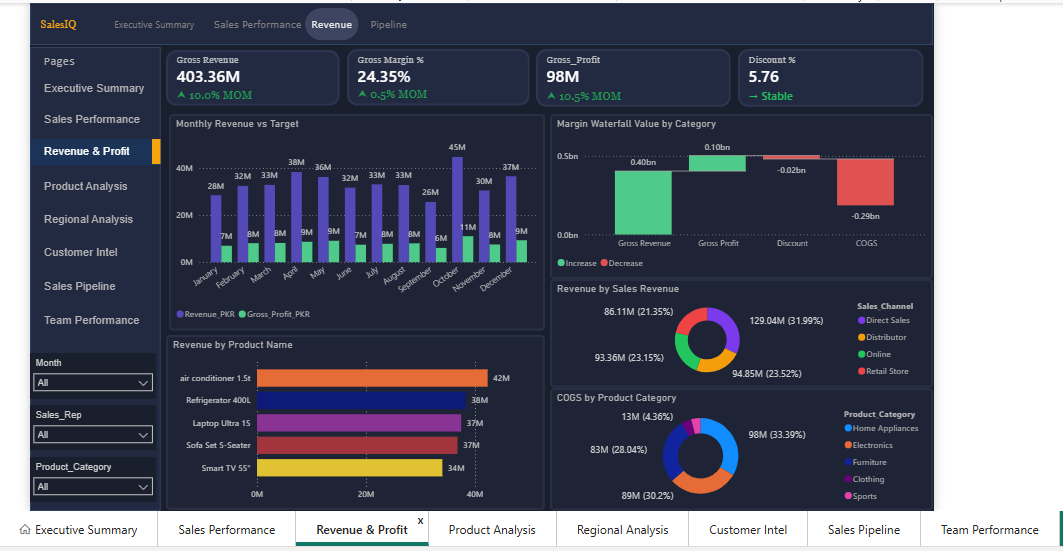

The dashboard page shown, as its layout file describes it:
{"tool":"powerbi","page":{"name":"Revenue & Profit","canvas":[1280,720],"ordinal":2},"visuals":[{"type":"shape","box":[0,0,1279.8,59.5],"z":0,"group":"g10"},{"type":"shape","box":[0,62,185,657.6],"z":0,"group":"g9"},{"type":"cardVisual","title":"Total Revenue ","fields":{"Data":["Sum(Table1.Revenue_PKR)"]},"box":[192.8,66.6,246.6,79.4],"z":0},{"type":"actionButton","box":[0,103.3,185,39.4],"z":0,"group":"g1"},{"type":"actionButton","box":[0,146.7,185,39.4],"z":0,"group":"g2"},{"type":"actionButton","box":[0,192,186,37.3],"z":0,"group":"g3"},{"type":"actionButton","box":[0,242.2,185,39.4],"z":0,"group":"g4"},{"type":"actionButton","box":[0,289.4,185,39.4],"z":0,"group":"g5"},{"type":"actionButton","box":[0,336.2,185,39.4],"z":0,"group":"g6"},{"type":"actionButton","box":[0,383.7,185,39.4],"z":0,"group":"g8"},{"type":"actionButton","box":[0,431.3,185,39.4],"z":0,"group":"g7"},{"type":"actionButton","box":[109,6.9,134,45.8],"z":1000,"group":"g10"},{"type":"group","id":"g1","title":"Executive summary 1","box":[0,103.3,185,39.4],"z":1000,"group":"g9"},{"type":"shape","box":[173,192,12,35.5],"z":1000,"group":"g3"},{"type":"slicer","fields":{"Values":["Calendar.Month"]},"box":[1169.3,219.7,86.5,48.2],"z":1000},{"type":"actionButton","box":[255,6.9,135,45.8],"z":2000,"group":"g10"},{"type":"cardVisual","title":"Total Revenue ","fields":{"Data":["Table1.Gross Margin %"]},"box":[449.3,65.2,259.4,80.8],"z":2000},{"type":"group","id":"g2","title":"Executive summary 1","box":[0,146.7,185,39.4],"z":2000,"group":"g9"},{"type":"actionButton","box":[390,6.9,76,45.8],"z":3000,"group":"g10"},{"type":"cardVisual","title":"Total Revenue ","fields":{"Data":["Table1.Discount %"]},"box":[1003,65,263,82.2],"z":3000},{"type":"group","id":"g3","title":"Executive summary 1","box":[0,192,186,37.3],"z":3000,"group":"g9"},{"type":"actionButton","box":[465.9,6.9,85,45.8],"z":4000,"group":"g10"},{"type":"cardVisual","title":"Total Revenue ","fields":{"Data":["Sum(Table1.Gross_Profit_PKR)"]},"box":[717,65.2,276.4,82.2],"z":4000},{"type":"group","id":"g4","title":"Executive summary 1","box":[0,242.2,185,39.4],"z":4000,"group":"g9"},{"type":"clusteredColumnChart","title":"Monthly Revenue vs Target","fields":{"Category":["Calendar.Month"],"Y":["Sum(Table1.Revenue_PKR)","Sum(Table1.Gross_Profit_PKR)"]},"box":[197,157,533,307],"z":5000},{"type":"group","id":"g5","title":"Executive summary 1","box":[0,289.4,185,39.4],"z":5000,"group":"g9"},{"type":"group","id":"g6","title":"Executive summary 1","box":[0,336.2,185,39.4],"z":6000,"group":"g9"},{"type":"clusteredBarChart","title":"Revenue by Product Name","fields":{"Category":["Table1.Product_Name"],"Y":["Sum(Table1.Revenue_PKR)"]},"box":[192.8,470.6,537.2,248],"z":6000},{"type":"slicer","fields":{"Values":["Table1.Region"]},"box":[1097,3,172.9,48.2],"z":7000},{"type":"group","id":"g7","title":"Executive summary 1","box":[0,431.3,185,39.4],"z":7000,"group":"g9"},{"type":"slicer","fields":{"Values":["Table1.Product_Category"]},"box":[914.2,3,172.9,49.6],"z":8000},{"type":"group","id":"g8","title":"Executive summary 1","box":[0,383.7,185,39.4],"z":8000,"group":"g9"},{"type":"slicer","fields":{"Values":["Calendar.Month"]},"box":[725.7,3,172.9,49.6],"z":9000},{"type":"group","id":"g9","title":"1 side bar","box":[0,62,186,657.6],"z":10000},{"type":"group","id":"g10","title":"1 Header","box":[0,0,1280,59.1],"z":11000},{"type":"slicer","fields":{"Values":["Calendar.Month"]},"box":[0,496.1,178.6,65.2],"z":12000},{"type":"slicer","fields":{"Values":["Table1.Sales_Rep"]},"box":[0,569.8,178.6,63.8],"z":13000},{"type":"donutChart","title":"COGS by Product Category","fields":{"Category":["Table1.Product_Category"],"Y":["Sum(Table1.COGS_PKR)"]},"box":[737,545.7,542.8,174.3],"z":14000},{"type":"waterfallChart","fields":{"Y":["Margin Categories.Margin Waterfall Value"],"Category":["Margin Categories.Category"]},"box":[737,157.3,542.8,233.9],"z":15000},{"type":"donutChart","title":"Revenue by Sales Revenue","fields":{"Y":["Sum(Table1.Revenue_PKR)"],"Category":["Table1.Sales_Channel"]},"box":[737,391.2,542.8,154.5],"z":16000},{"type":"slicer","fields":{"Values":["Table1.Product_Category"]},"box":[0,643.5,178.6,63.8],"z":17000}]}

Visuals, with their boxes on the page's 1280x720 design canvas (x1, y1, x2, y2). These are canvas units, not pixel positions in the 1063x551 screenshot, which may show the page scaled, cropped or inside an application window:
shape: bbox(0, 0, 1280, 60)
shape: bbox(0, 62, 185, 720)
"Total Revenue " cardVisual: bbox(193, 67, 439, 146)
actionButton: bbox(0, 103, 185, 143)
actionButton: bbox(0, 147, 185, 186)
actionButton: bbox(0, 192, 186, 229)
actionButton: bbox(0, 242, 185, 282)
actionButton: bbox(0, 289, 185, 329)
actionButton: bbox(0, 336, 185, 376)
actionButton: bbox(0, 384, 185, 423)
actionButton: bbox(0, 431, 185, 471)
actionButton: bbox(109, 7, 243, 53)
"Executive summary 1" group: bbox(0, 103, 185, 143)
shape: bbox(173, 192, 185, 228)
slicer - Calendar.Month: bbox(1169, 220, 1256, 268)
actionButton: bbox(255, 7, 390, 53)
"Total Revenue " cardVisual: bbox(449, 65, 709, 146)
"Executive summary 1" group: bbox(0, 147, 185, 186)
actionButton: bbox(390, 7, 466, 53)
"Total Revenue " cardVisual: bbox(1003, 65, 1266, 147)
"Executive summary 1" group: bbox(0, 192, 186, 229)
actionButton: bbox(466, 7, 551, 53)
"Total Revenue " cardVisual: bbox(717, 65, 993, 147)
"Executive summary 1" group: bbox(0, 242, 185, 282)
"Monthly Revenue vs Target" clusteredColumnChart: bbox(197, 157, 730, 464)
"Executive summary 1" group: bbox(0, 289, 185, 329)
"Executive summary 1" group: bbox(0, 336, 185, 376)
"Revenue by Product Name" clusteredBarChart: bbox(193, 471, 730, 719)
slicer - Table1.Region: bbox(1097, 3, 1270, 51)
"Executive summary 1" group: bbox(0, 431, 185, 471)
slicer - Table1.Product_Category: bbox(914, 3, 1087, 53)
"Executive summary 1" group: bbox(0, 384, 185, 423)
slicer - Calendar.Month: bbox(726, 3, 899, 53)
"1 side bar" group: bbox(0, 62, 186, 720)
"1 Header" group: bbox(0, 0, 1280, 59)
slicer - Calendar.Month: bbox(0, 496, 179, 561)
slicer - Table1.Sales_Rep: bbox(0, 570, 179, 634)
"COGS by Product Category" donutChart: bbox(737, 546, 1280, 720)
waterfallChart - Margin Categories.Margin Waterfall Value x Margin Categories.Category: bbox(737, 157, 1280, 391)
"Revenue by Sales Revenue" donutChart: bbox(737, 391, 1280, 546)
slicer - Table1.Product_Category: bbox(0, 644, 179, 707)
